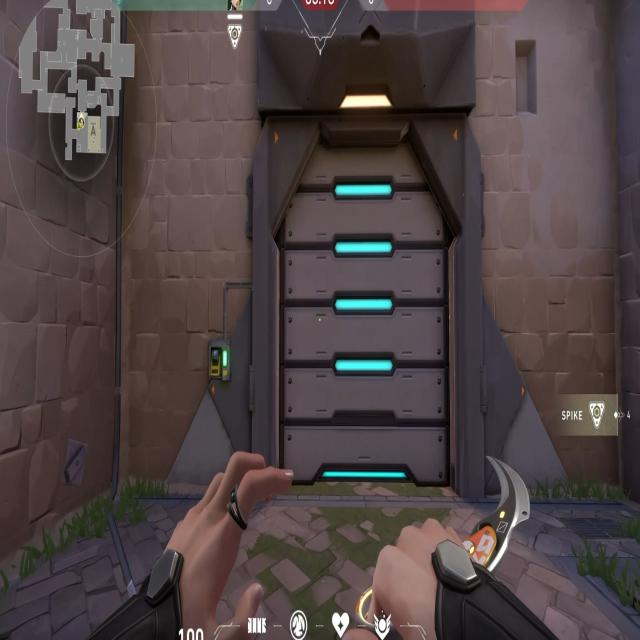A_Door: (262, 114, 459, 489)
